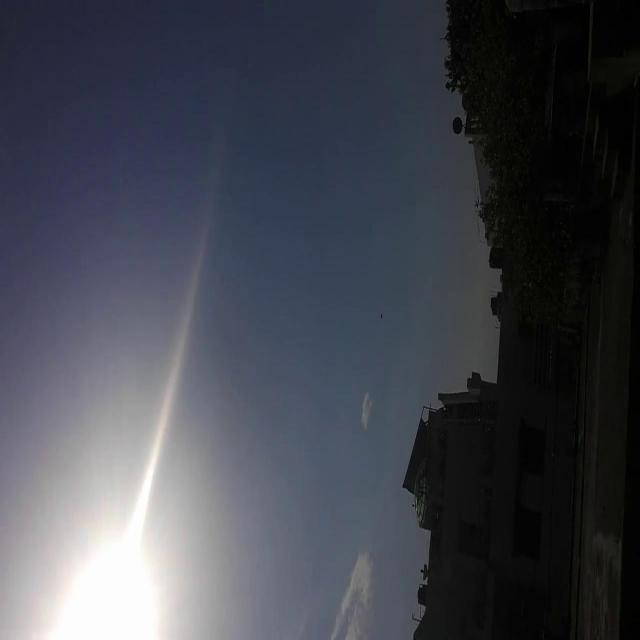other: (26, 424, 191, 638)
